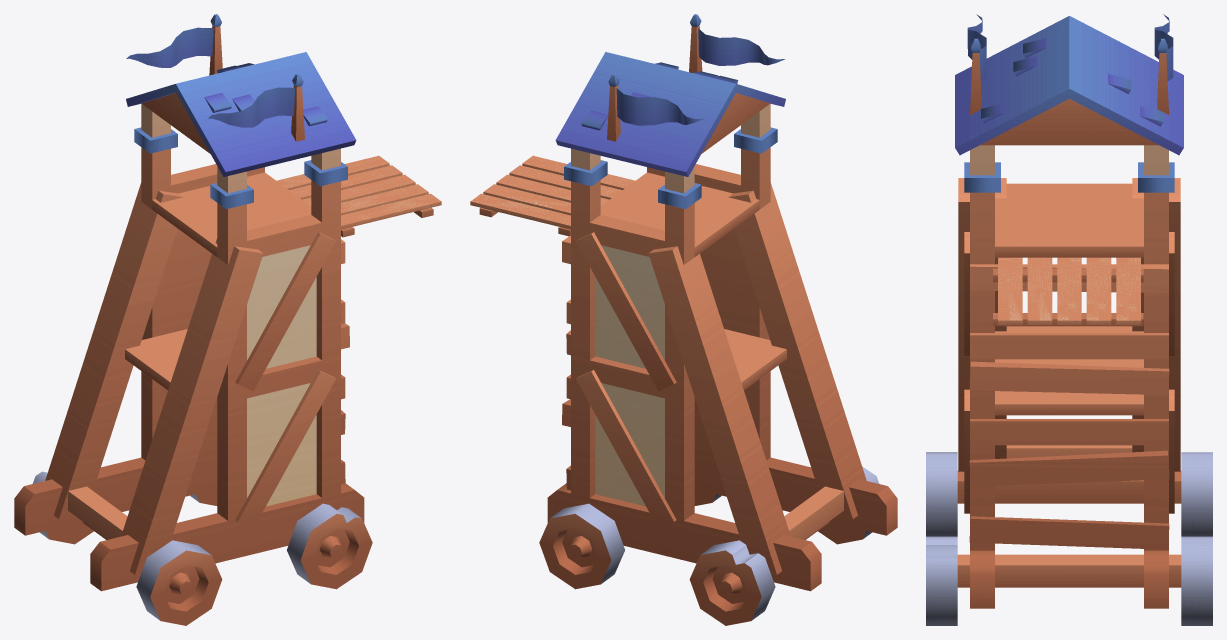
File: siege-tower.glb
3 views of the same model, side by side, from view 1: azimuth 30°, elevation 25°; view 2: azimuth 150°, elevation 25°; view 3: azimuth 270°, elevation 25° (orthographic). The views are drawn at different scales.
Parts seen in each view (by area): view 1: siege-tower, wheel (×3); view 2: siege-tower, wheel (×3); view 3: siege-tower, wheel (×4).
Boxes of the visible parts, x1=… form: siege-tower: x1=14, y1=14, x2=441, y2=591; wheel (×3): x1=32, y1=471, x2=372, y2=625; siege-tower: x1=470, y1=14, x2=897, y2=591; wheel (×3): x1=539, y1=466, x2=879, y2=625; siege-tower: x1=955, y1=14, x2=1183, y2=608; wheel (×4): x1=926, y1=452, x2=1212, y2=625.
Size of the model in its own units: 1.97 by 2.68 by 1.21.
Materials: 1 (1 with a texture image).
